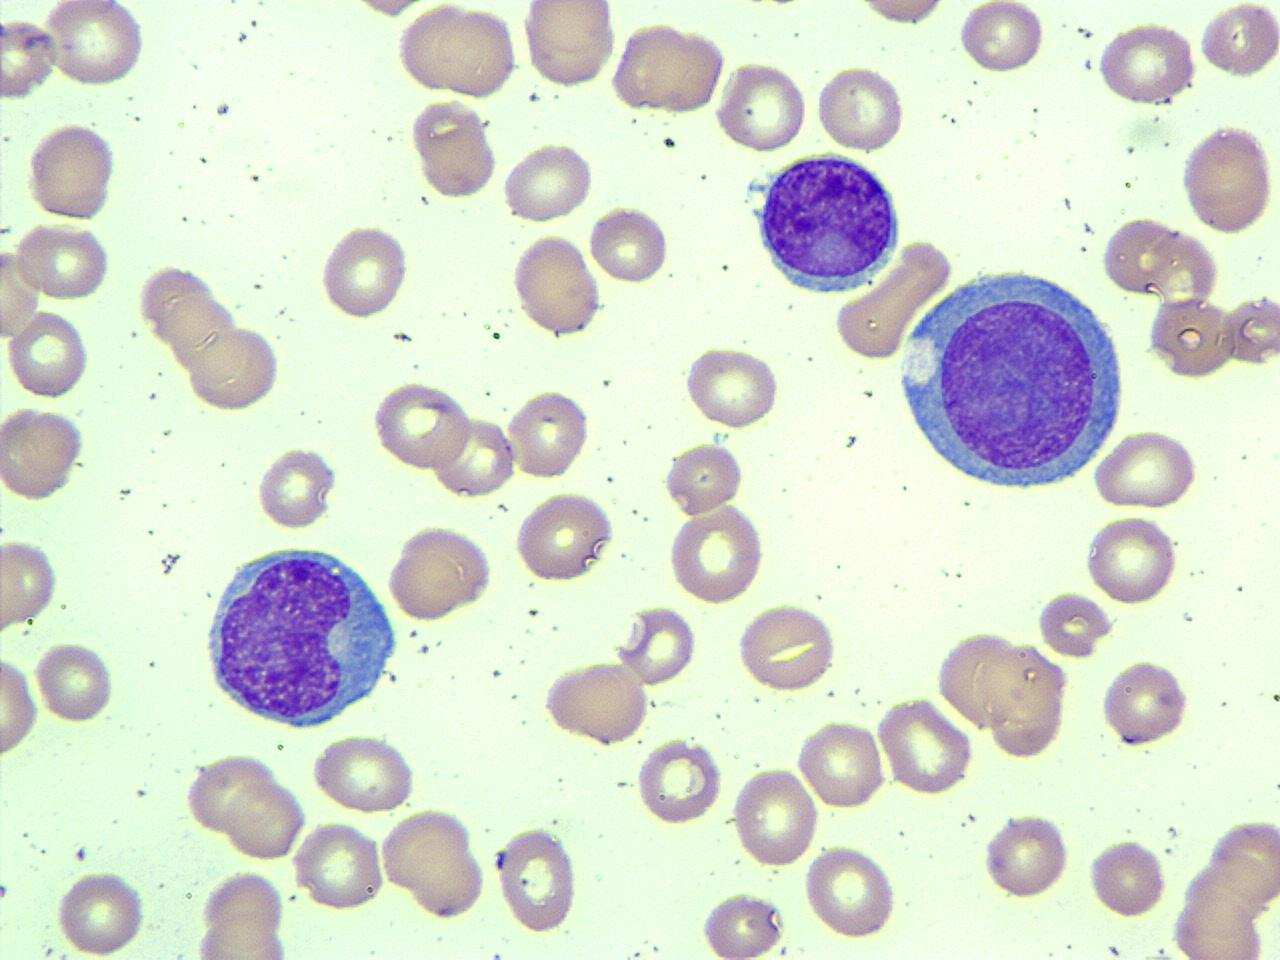Platelets: (744, 177, 765, 197), (1083, 54, 1095, 73)
RBC: (380, 804, 489, 922), (395, 3, 520, 100), (1177, 119, 1277, 237), (978, 640, 1071, 760), (385, 522, 496, 622), (610, 23, 724, 118), (666, 501, 767, 606), (876, 694, 975, 796), (510, 230, 602, 339), (512, 488, 616, 584), (493, 824, 582, 936), (369, 378, 473, 472), (1092, 425, 1202, 512), (542, 658, 650, 747), (26, 119, 119, 222), (730, 763, 820, 868), (714, 57, 810, 155), (41, 1, 149, 89), (317, 221, 411, 322), (407, 96, 500, 198), (802, 842, 898, 940), (193, 866, 292, 960), (1081, 513, 1181, 607), (734, 604, 840, 692), (309, 730, 417, 816), (934, 627, 1022, 731), (1096, 20, 1198, 108), (291, 821, 388, 913), (519, 2, 620, 90), (682, 344, 783, 432), (796, 715, 888, 811), (980, 808, 1072, 902), (1098, 658, 1192, 750), (814, 62, 909, 153), (186, 322, 282, 412), (4, 306, 92, 404), (504, 384, 592, 483), (1144, 292, 1240, 380), (54, 868, 150, 956), (500, 138, 596, 225), (185, 750, 282, 836), (0, 405, 86, 502), (13, 221, 114, 301), (636, 736, 723, 826), (432, 410, 518, 498), (223, 774, 308, 862), (586, 200, 670, 287), (31, 638, 117, 724), (254, 444, 339, 530), (1168, 892, 1270, 960), (1087, 836, 1169, 920), (1197, 0, 1279, 83), (618, 602, 696, 688), (1100, 216, 1182, 296), (662, 439, 746, 518), (698, 886, 788, 960), (955, 0, 1045, 74), (0, 534, 61, 630), (1147, 227, 1219, 308), (833, 288, 906, 360), (1, 16, 57, 101), (1222, 291, 1280, 370), (189, 918, 297, 960), (0, 650, 40, 760), (0, 246, 42, 340), (850, 0, 951, 31)
WBC: (894, 262, 1132, 499), (200, 538, 402, 734), (746, 146, 906, 298)
